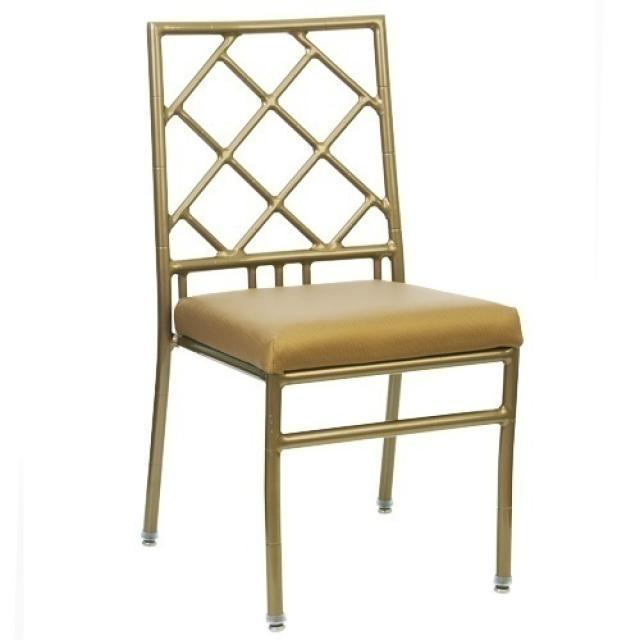chair: (133, 12, 527, 632)
